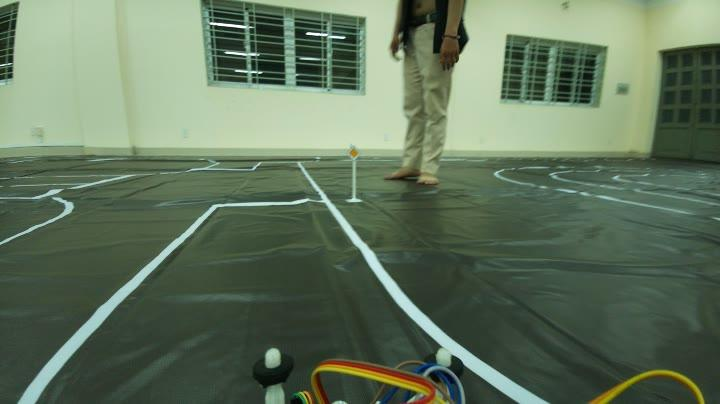priority: (344, 146, 364, 162)
